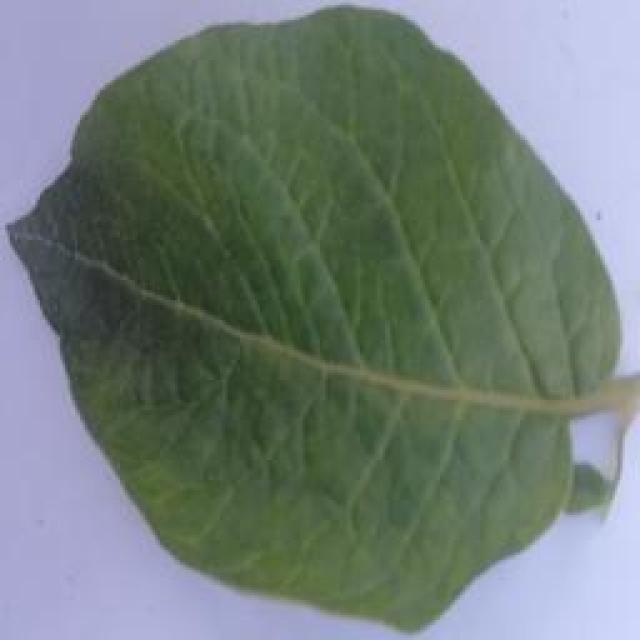Potato_Healthy: (6, 8, 621, 633)
